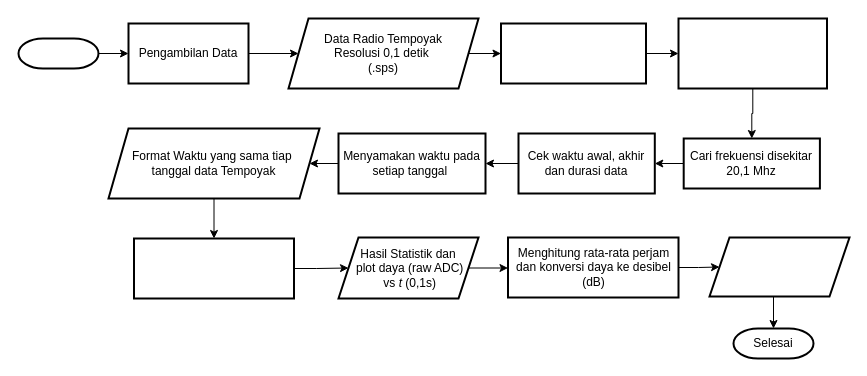
This 867x376 diagram has some shape labels left out. The centre of each missing label's shape, as x and y in pixels:
Hasil Statistik dan plot daya (dB) vs t (1h): pixel 779 266
Konversi ke (.csv) menggunakan Radio-Sky Spectograph: pixel 573 53
Membuat perhitungan statistik serta plot daya (raw ADC) vs t (0,1s): pixel 213 268
Mulai: pixel 58 53
Perbaiki dan menggabungkan milidetik ke kolom waktu: pixel 752 53
